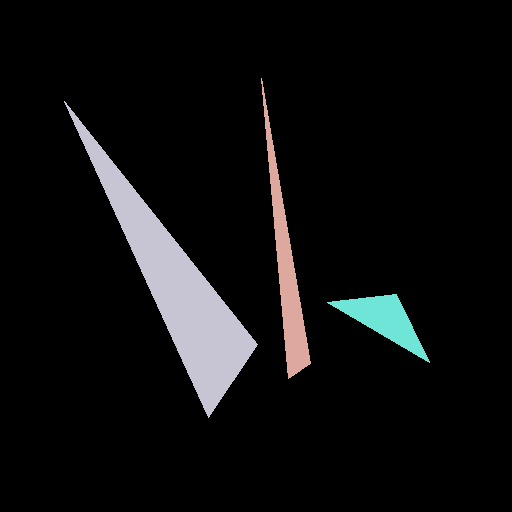triangle: (64, 101, 257, 417), (261, 78, 310, 378), (327, 294, 429, 362)
